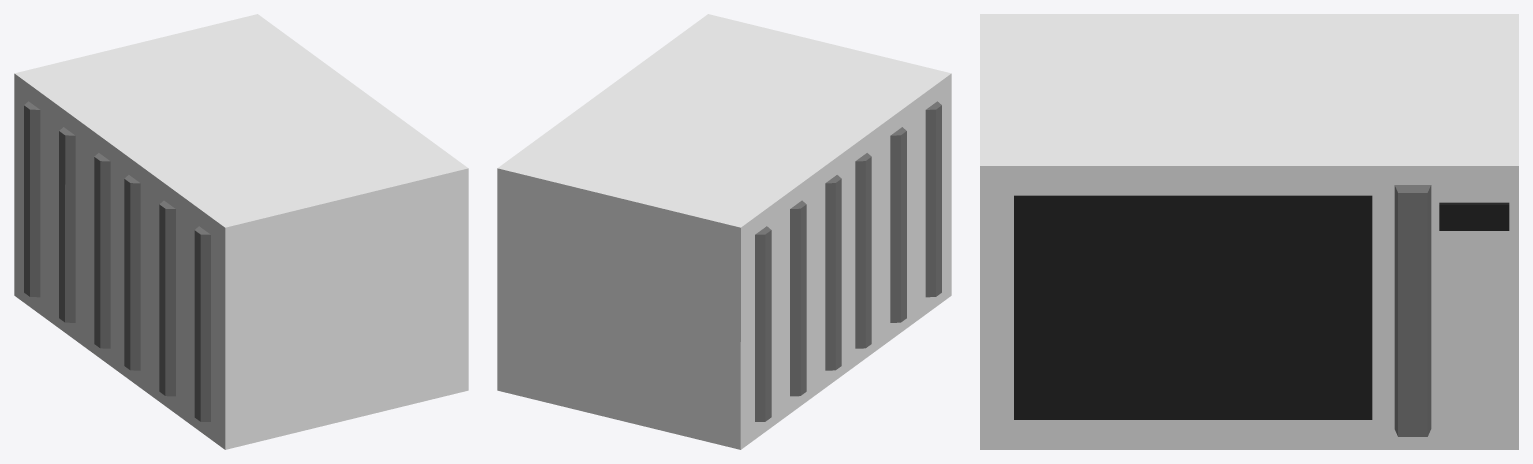
The model's file is Microondas.fbx.
3 renders of one model, left to right at view 1: azimuth 30°, elevation 25°; view 2: azimuth 150°, elevation 25°; view 3: azimuth 270°, elevation 25°, orthographic. The views are drawn at different scales.
Parts seen in each view (by area): view 1: Microondas; view 2: Microondas; view 3: Microondas.
Part boxes in pixels (x1=…): Microondas: x1=14, y1=14, x2=468, y2=449; Microondas: x1=497, y1=14, x2=951, y2=449; Microondas: x1=980, y1=14, x2=1518, y2=449.
Bounding box in the file's own units: 33.64 × 24.3 × 19.57.
1 material, 1 textured.
